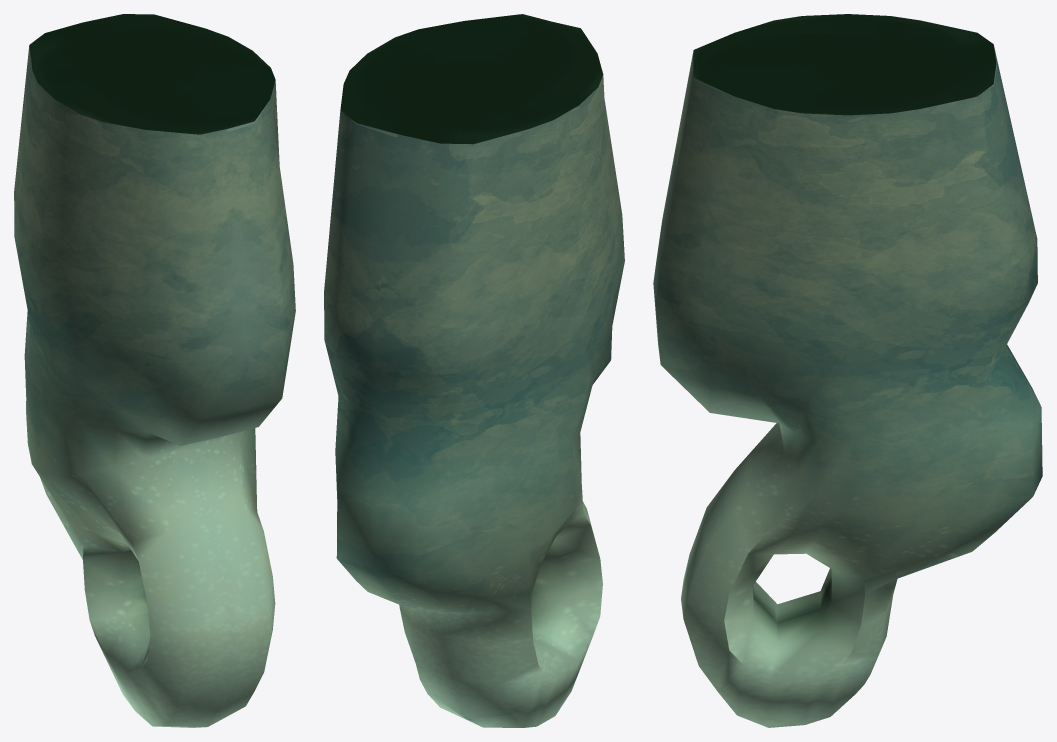
File: ronck_6.fbx
3 renders of one model, left to right at view 1: azimuth 30°, elevation 25°; view 2: azimuth 150°, elevation 25°; view 3: azimuth 270°, elevation 25°, orthographic. The views are drawn at different scales.
Visible parts, largest first — view 1: Plane.004; view 2: Plane.004; view 3: Plane.004.
Part boxes in pixels (x1,y1,x2,y2): Plane.004: (14,14,295,727); Plane.004: (324,14,624,727); Plane.004: (653,14,1042,727).
Size of the model in its own units: 69.77 by 196 by 106.
